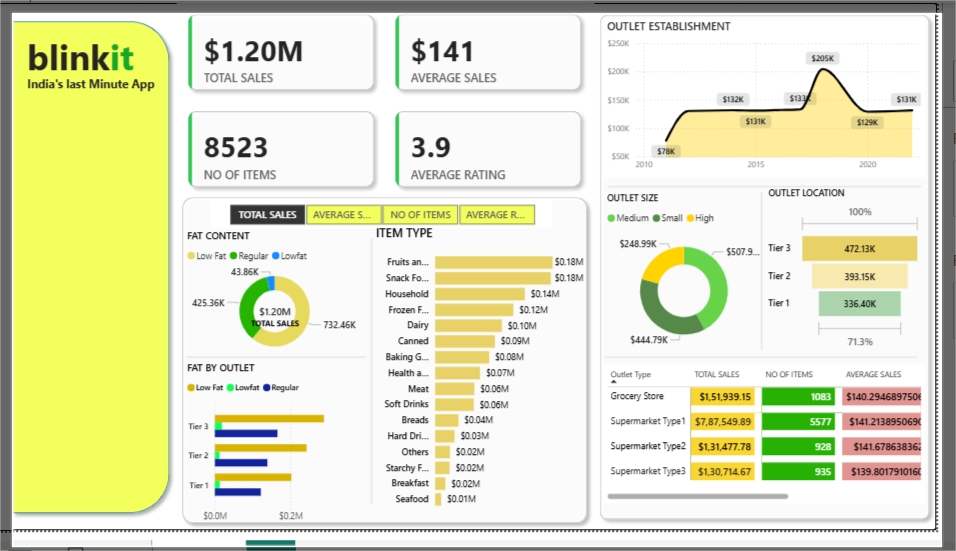

The dashboard page shown, as its layout file describes it:
{"tool":"powerbi","page":{"name":"Page 1","canvas":[1280,720],"ordinal":0},"visuals":[{"type":"shape","box":[11.9,17,231.8,688.7],"z":0},{"type":"textbox","box":[35.8,35.8,255.7,117.6],"z":1000},{"type":"textbox","box":[35.8,95.5,231.8,44.3],"z":2000},{"type":"cardVisual","fields":{"Data":["BlinkIT Grocery Data.TOTAL SALES","BlinkIT Grocery Data.AVERAGE SALES","BlinkIT Grocery Data.NO OF ITEMS","BlinkIT Grocery Data.AVERAGE RATING"]},"box":[243.8,0,569.3,269.3],"z":3000},{"type":"shape","box":[243.8,257.4,569.3,461.9],"z":4000},{"type":"donutChart","title":"FAT CONTENT","fields":{"Y":["Sum(BlinkIT Grocery Data.Sales)"],"Category":["BlinkIT Grocery Data.Item Fat Content"]},"box":[254,308.5,248.9,180.7],"z":5000},{"type":"slicer","fields":{"Values":["Metrics.Metrics"]},"box":[291.5,269.3,465.4,39.2],"z":6000},{"type":"cardVisual","title":"FAT CONTENT","fields":{"Data":["BlinkIT Grocery Data.TOTAL SALES"]},"box":[269.3,322.2,219.9,211.4],"z":7000},{"type":"clusteredBarChart","title":"FAT BY OUTLET","fields":{"Y":["BlinkIT Grocery Data.TOTAL SALES"],"Category":["BlinkIT Grocery Data.Outlet Location Type"],"Series":["BlinkIT Grocery Data.Item Fat Content"]},"box":[254,489.2,219.9,230.1],"z":8000},{"type":"shape","box":[257.4,479,245.5,10.2],"z":9000},{"type":"shape","box":[502.9,322.2,15.3,361.4],"z":10000},{"type":"barChart","title":"ITEM TYPE","fields":{"Y":["BlinkIT Grocery Data.TOTAL SALES"],"Category":["BlinkIT Grocery Data.Item Type"]},"box":[511.4,303.4,293.2,397.2],"z":11000},{"type":"shape","box":[813.1,8.5,467.1,705.7],"z":12000},{"type":"lineChart","title":"OUTLET ESTABLISHMENT","fields":{"Category":["BlinkIT Grocery Data.Outlet Establishment Year"],"Y":["BlinkIT Grocery Data.TOTAL SALES"]},"box":[826.7,22.2,438.1,216.5],"z":13000},{"type":"shape","box":[833.5,245.5,426.1,11.9],"z":14000},{"type":"donutChart","title":"OUTLET SIZE","fields":{"Y":["BlinkIT Grocery Data.TOTAL SALES"],"Category":["BlinkIT Grocery Data.Outlet Size"]},"box":[826.7,259.1,219.9,225],"z":15000},{"type":"shape","box":[1038.1,259.1,8.5,214.8],"z":16000},{"type":"funnel","title":"OUTLET LOCATION ","fields":{"Y":["Sum(BlinkIT Grocery Data.Sales)"],"Category":["BlinkIT Grocery Data.Outlet Location Type"]},"box":[1046.6,252.3,218.2,226.7],"z":17000},{"type":"shape","box":[828.4,479,426.1,10.2],"z":18000},{"type":"pivotTable","fields":{"Rows":["BlinkIT Grocery Data.Outlet Type"],"Values":["BlinkIT Grocery Data.TOTAL SALES","BlinkIT Grocery Data.NO OF ITEMS","BlinkIT Grocery Data.AVERAGE SALES","BlinkIT Grocery Data.AVERAGE RATING","Sum(BlinkIT Grocery Data.Item Visibility)"]},"box":[826.7,492.6,438.1,190.9],"z":19000}]}

Visuals, with their boxes in screenshot pixels (x1, y1, x2, y2), scaled from the page's 1280x720 canvas onto the 956x551 screenshot:
shape: left=9, top=13, right=182, bottom=540
textbox: left=27, top=27, right=218, bottom=117
textbox: left=27, top=73, right=200, bottom=107
cardVisual - BlinkIT Grocery Data.TOTAL SALES x BlinkIT Grocery Data.AVERAGE SALES: left=182, top=0, right=607, bottom=206
shape: left=182, top=197, right=607, bottom=550
"FAT CONTENT" donutChart: left=190, top=236, right=376, bottom=374
slicer - Metrics.Metrics: left=218, top=206, right=565, bottom=236
"FAT CONTENT" cardVisual: left=201, top=247, right=365, bottom=408
"FAT BY OUTLET" clusteredBarChart: left=190, top=374, right=354, bottom=550
shape: left=192, top=367, right=376, bottom=374
shape: left=376, top=247, right=387, bottom=523
"ITEM TYPE" barChart: left=382, top=232, right=601, bottom=536
shape: left=607, top=7, right=955, bottom=547
"OUTLET ESTABLISHMENT" lineChart: left=617, top=17, right=945, bottom=183
shape: left=623, top=188, right=941, bottom=197
"OUTLET SIZE" donutChart: left=617, top=198, right=782, bottom=370
shape: left=775, top=198, right=782, bottom=363
"OUTLET LOCATION " funnel: left=782, top=193, right=945, bottom=367
shape: left=619, top=367, right=937, bottom=374
pivotTable - BlinkIT Grocery Data.Outlet Type x BlinkIT Grocery Data.TOTAL SALES: left=617, top=377, right=945, bottom=523
